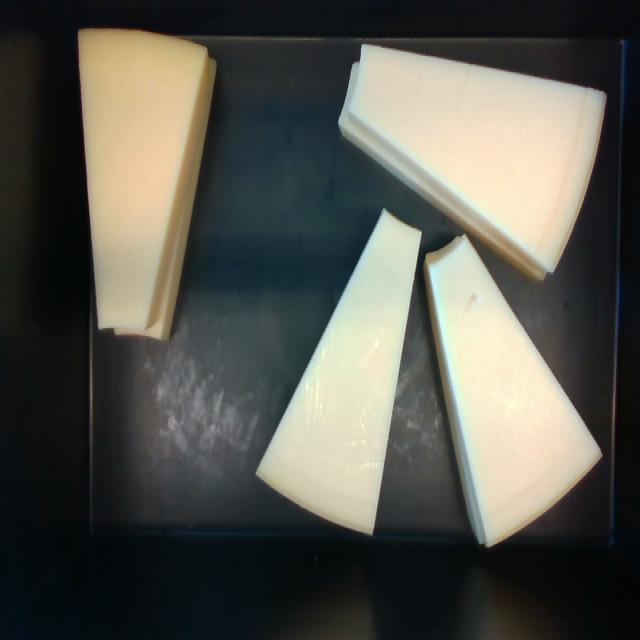Cheese: (350, 47, 605, 277), (424, 235, 600, 545), (259, 212, 419, 531), (79, 31, 206, 328)
